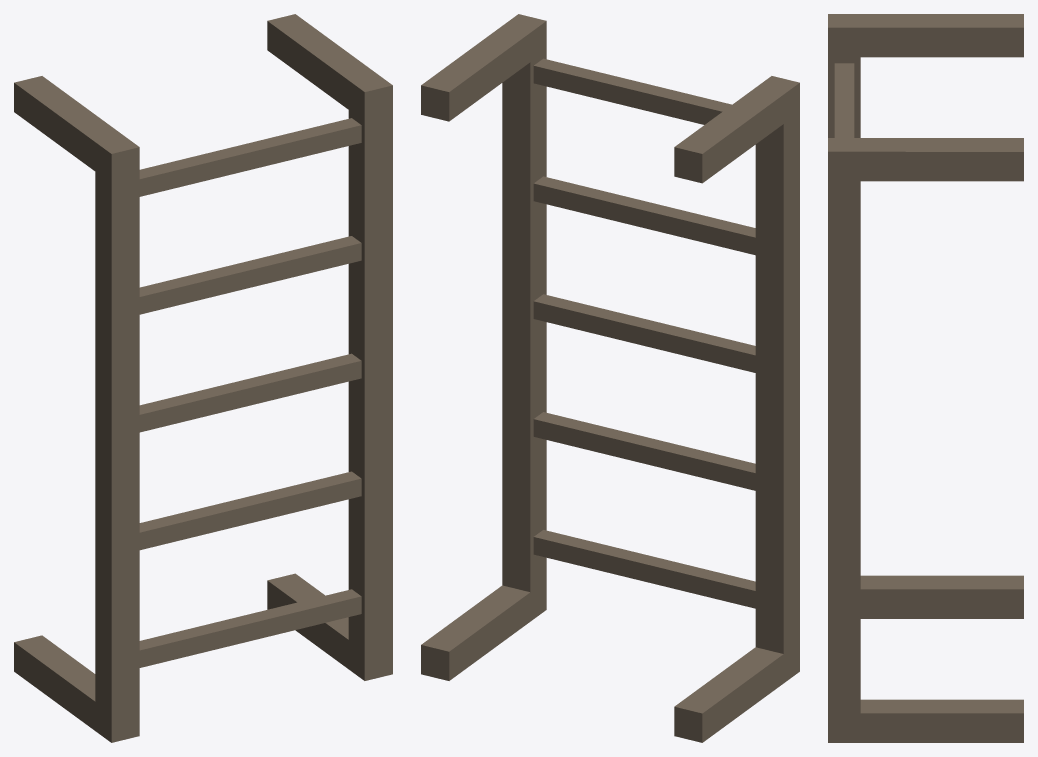
Rendered from steampunk_ladder.fbx.
3 renders of one model, left to right at view 1: azimuth 30°, elevation 25°; view 2: azimuth 150°, elevation 25°; view 3: azimuth 270°, elevation 25°, orthographic.
Visible parts, largest first — view 1: Cube.086; view 2: Cube.086; view 3: Cube.086.
Part boxes in pixels (bbox=[...]): Cube.086: bbox=[14, 14, 392, 742]; Cube.086: bbox=[421, 14, 799, 742]; Cube.086: bbox=[828, 14, 1023, 742].
Size of the model in its own units: 0.5 by 1 by 0.3.
